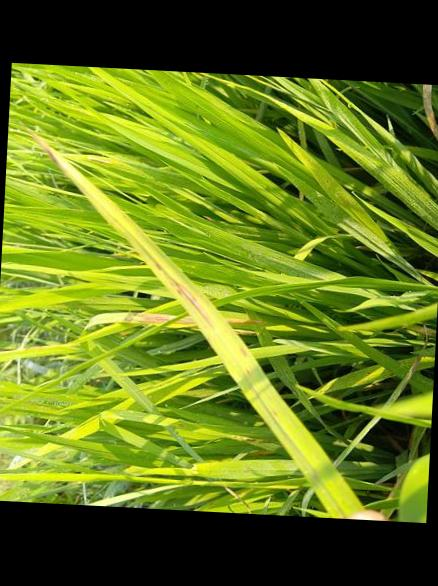Leaf Blight: (32, 132, 256, 398)
